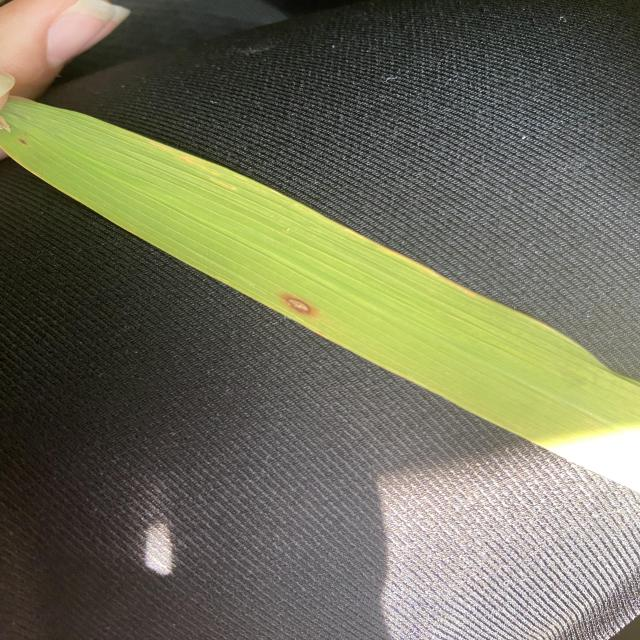Dom nau: (280, 293, 318, 318)
